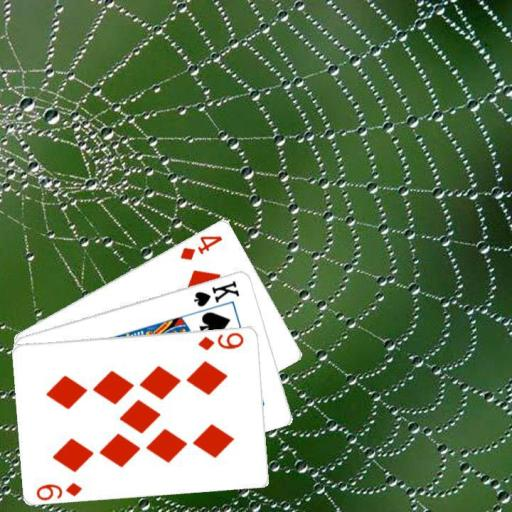4D: (177, 232, 224, 262)
9D: (33, 478, 84, 500), (195, 330, 245, 351)
KS: (191, 277, 241, 308)
